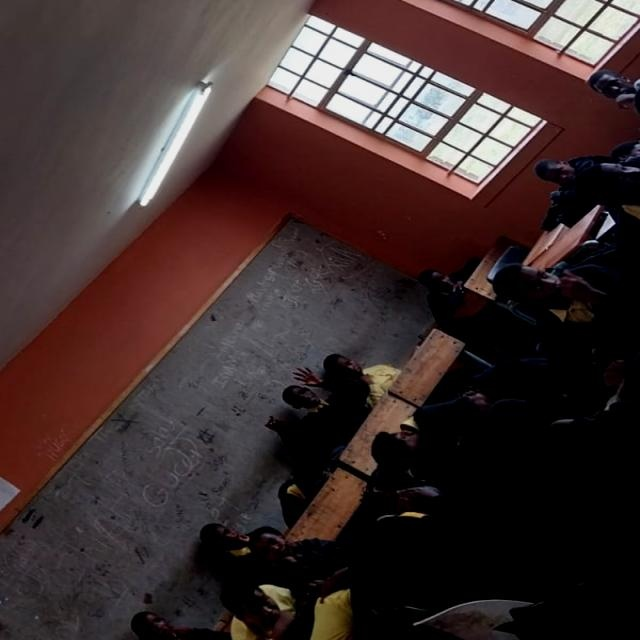fluorescent tube: (104, 54, 251, 230)
